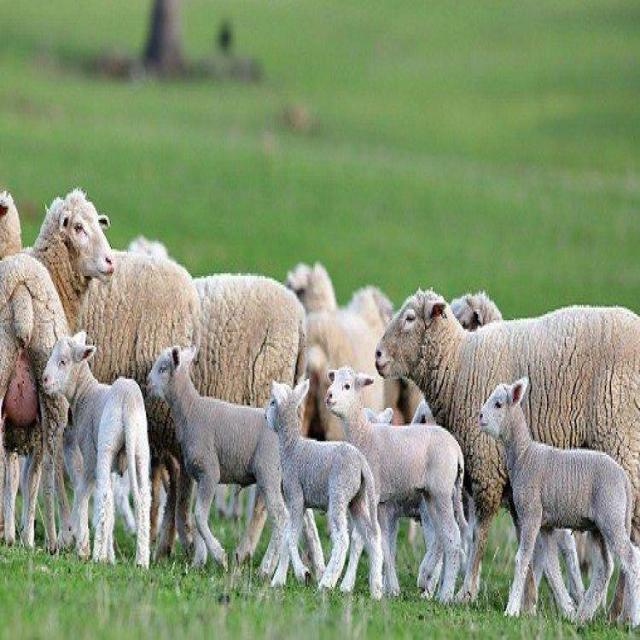Sheep: (474, 380, 625, 603), (328, 364, 466, 603), (37, 324, 157, 554), (252, 384, 369, 578)
